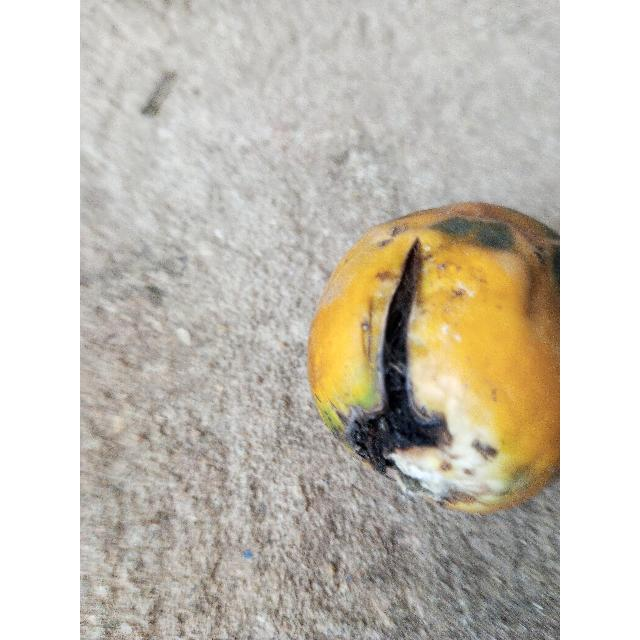damaged: (307, 202, 560, 518)
